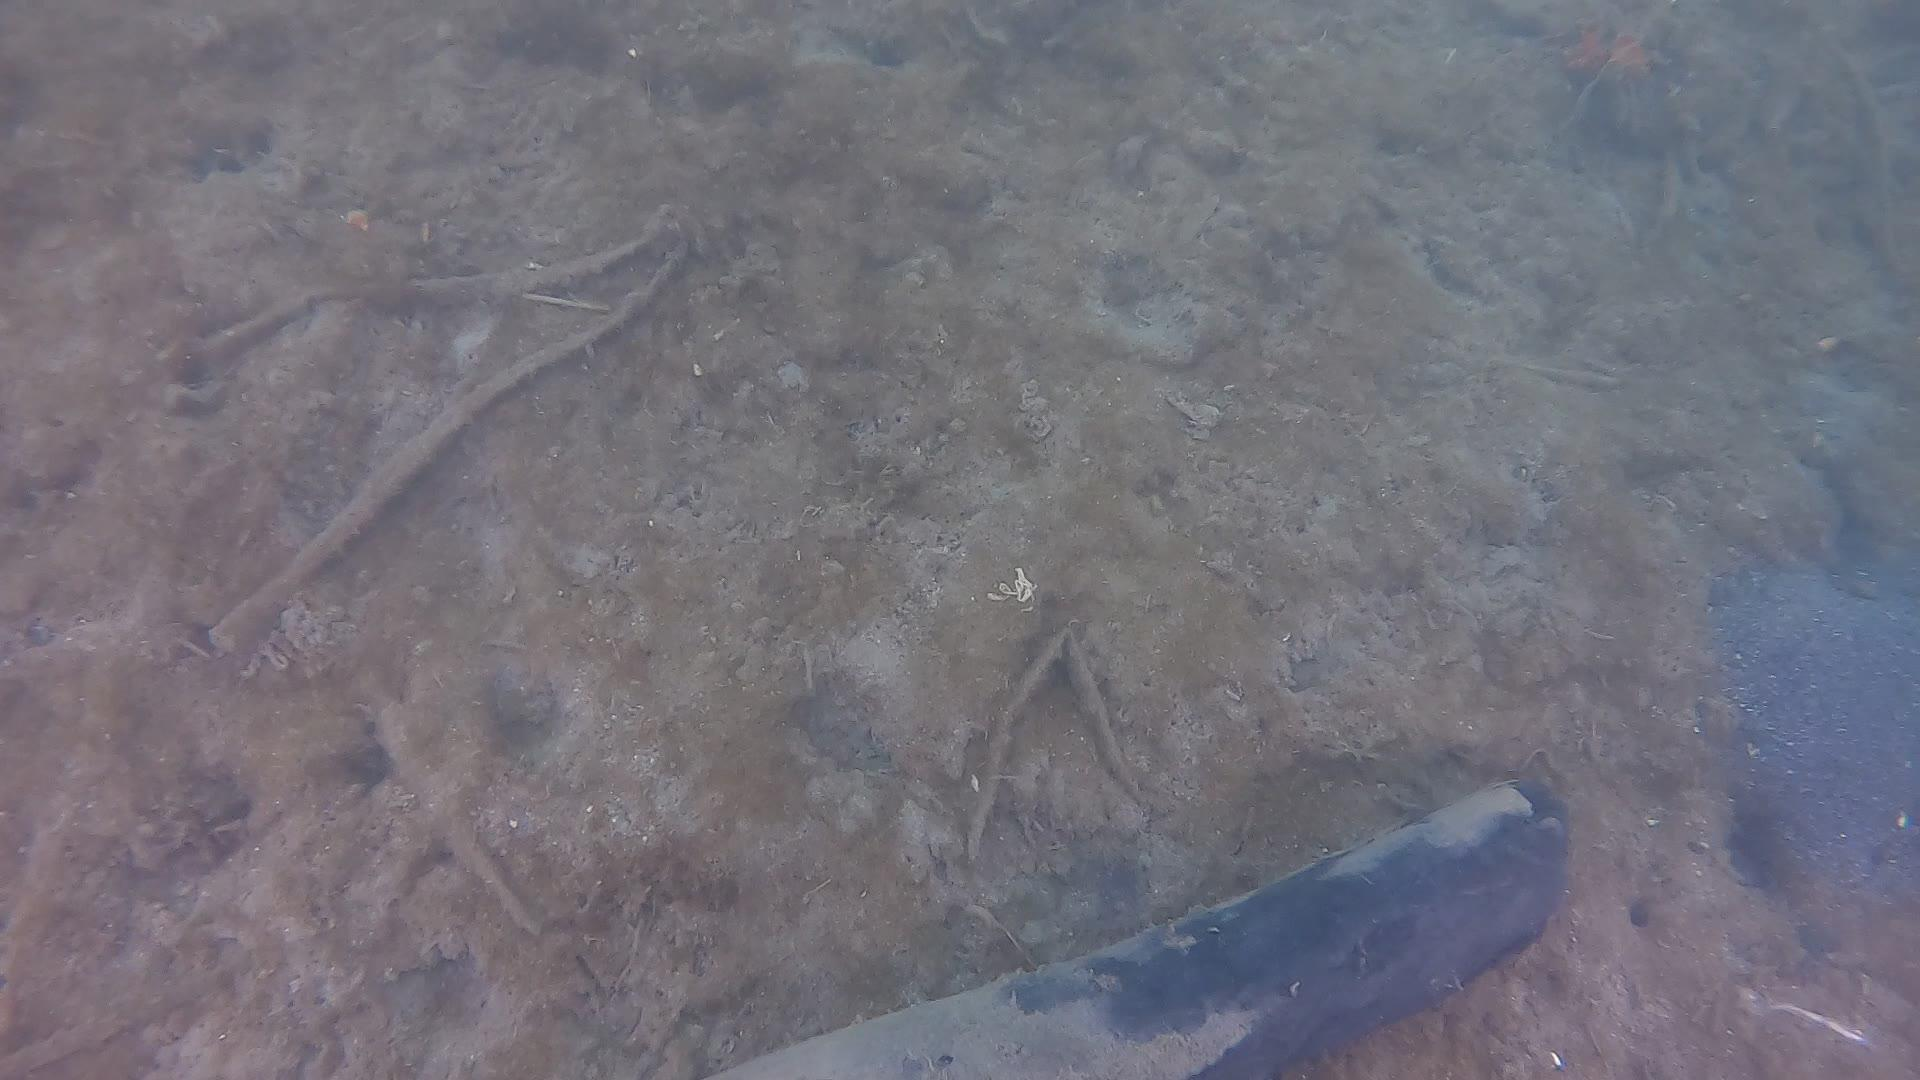wood: (690, 767, 1565, 1080)
